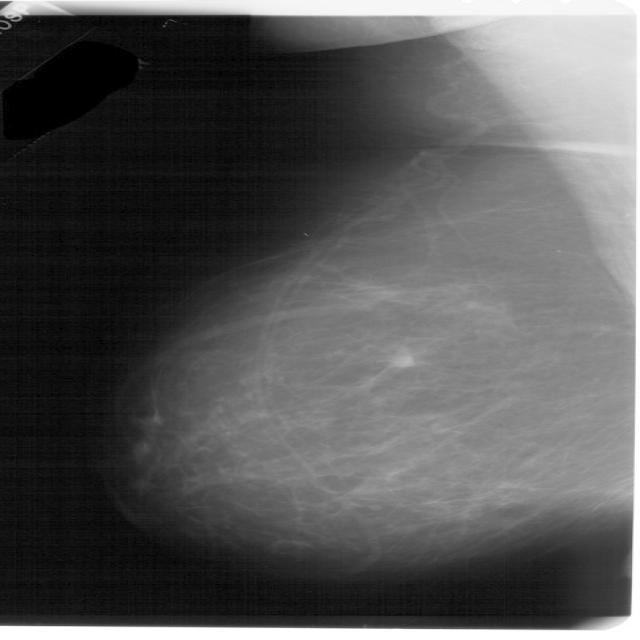tumour: (385, 353, 416, 368)
